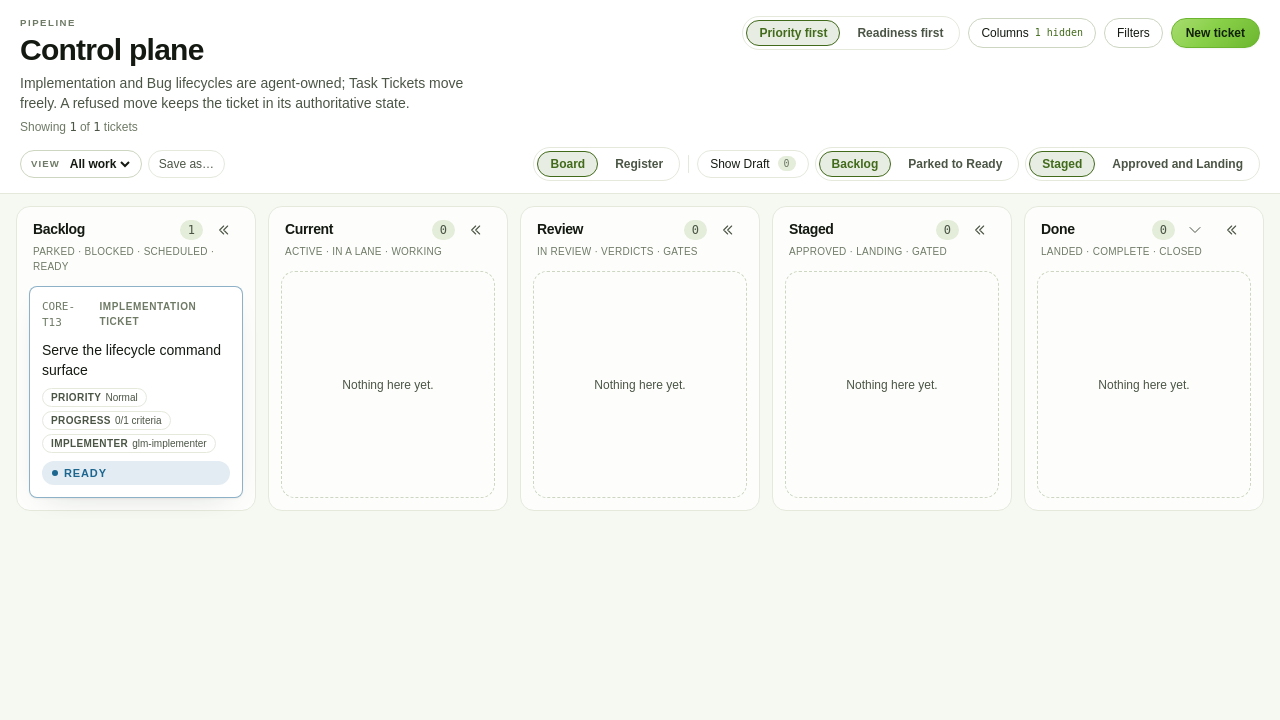
the drawer footer actions › keeps the drag Task-only: an agent-owned kind offers no drag and no move select
The width and height of the screenshot is (1280, 720).
What coordinates should you click on to do the following:
click the button with test id "open-ticket-8"
I would click on:
 (136, 360)
Its box is [42,340,230,380].
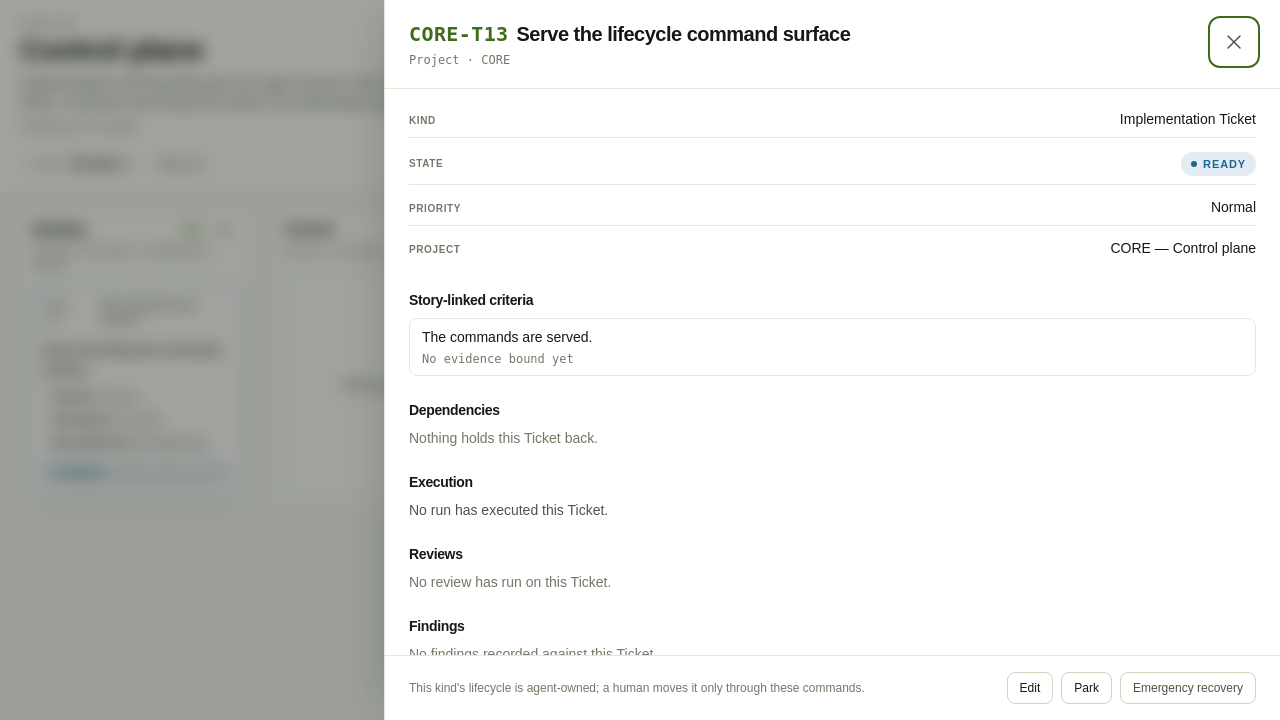
Check: the text with test id "drawer-agent-owned" shows "agent-owned", box [409,681,865,695]
